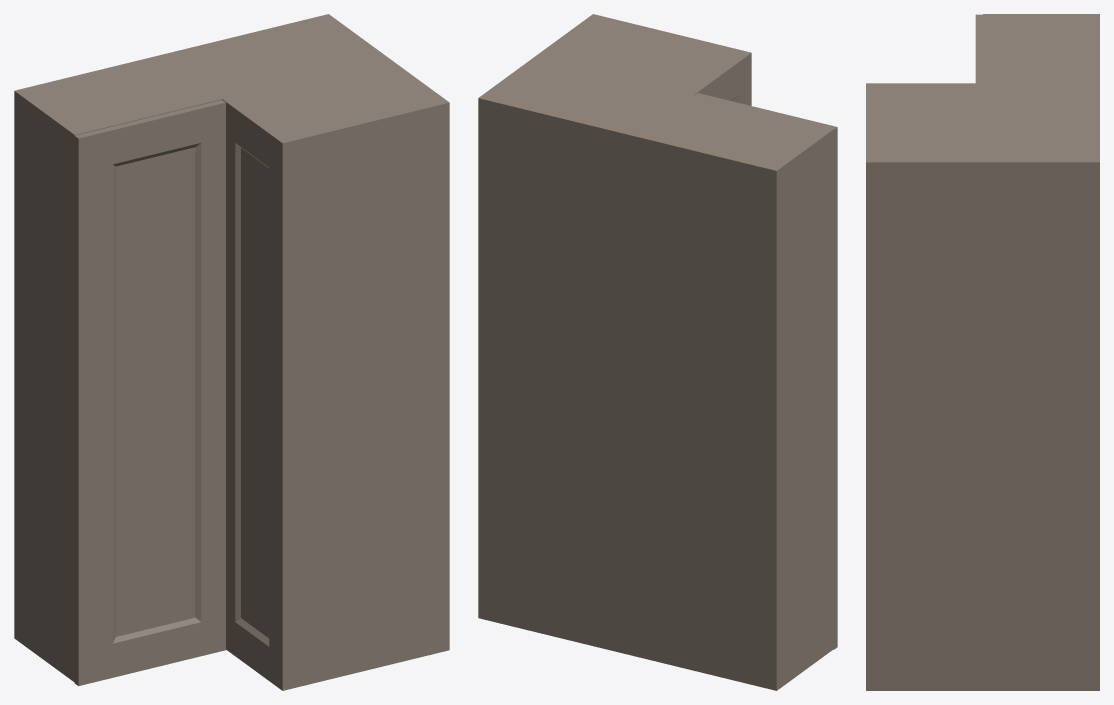
Rendered from Wall-Cabinet-Easy-Reach-12-Deep_std_001_W18in.glb.
The picture shows the model from 3 angles, left to right: view 1: azimuth 30°, elevation 25°; view 2: azimuth 150°, elevation 25°; view 3: azimuth 270°, elevation 25°; orthographic projection. The views are drawn at different scales.
Parts seen in each view (by area): view 1: Wall-Cabinet-Easy-Reach-12-Deep.std.001_W18in; view 2: Wall-Cabinet-Easy-Reach-12-Deep.std.001_W18in; view 3: Wall-Cabinet-Easy-Reach-12-Deep.std.001_W18in.
Part boxes in pixels (x1,y1,x2,y2): Wall-Cabinet-Easy-Reach-12-Deep.std.001_W18in: (14,14,449,690); Wall-Cabinet-Easy-Reach-12-Deep.std.001_W18in: (478,14,837,690); Wall-Cabinet-Easy-Reach-12-Deep.std.001_W18in: (866,14,1099,690).
Bounding box in the file's own units: 0.4572 × 0.762 × 0.3048.
